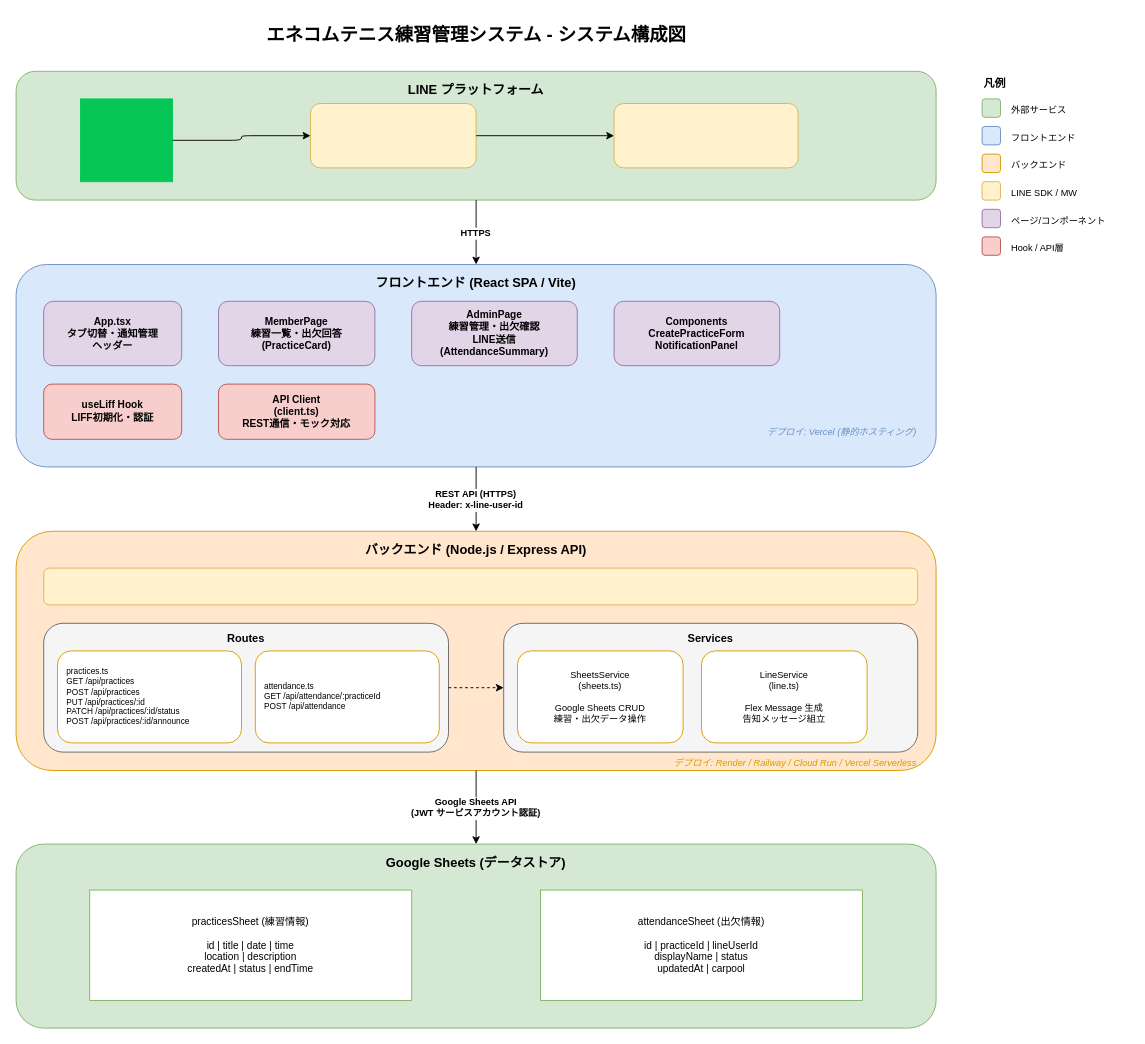
Image size: 1145x1044. Some labels were removed from this diagram. Each missing label, with the centre of its shape:
"LIFF SDK 認証・プロフィル取得" belongs at (x=393, y=135).
"LINE App (iOS / Android)" belongs at (x=126, y=140).
"shareTargetPicker() グループへの告知送信 (Flex Message)" belongs at (x=705, y=135).
"ミドルウェア CORS | JSON Parser | 管理者認証 (adminAuth)" belongs at (x=480, y=586).
